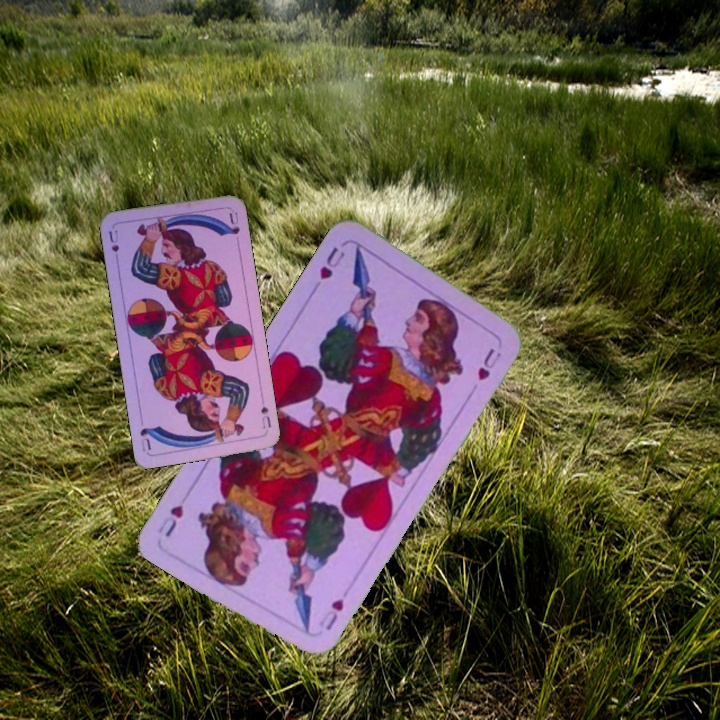HU: (315, 242, 348, 282), (314, 594, 347, 633)
SU: (105, 226, 122, 266), (257, 402, 274, 431)
